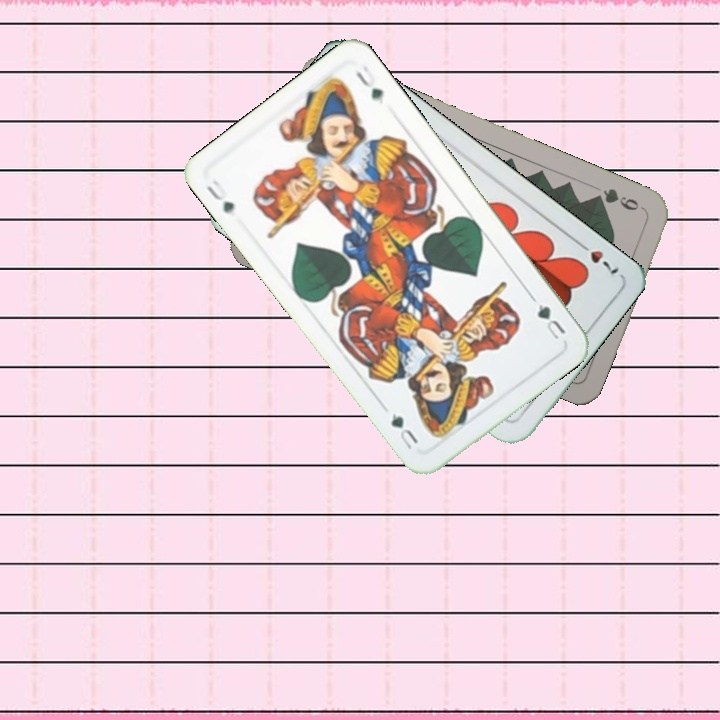G9: (589, 184, 649, 215)
GU: (527, 292, 569, 343), (202, 176, 237, 218)
H7: (572, 237, 621, 277)
